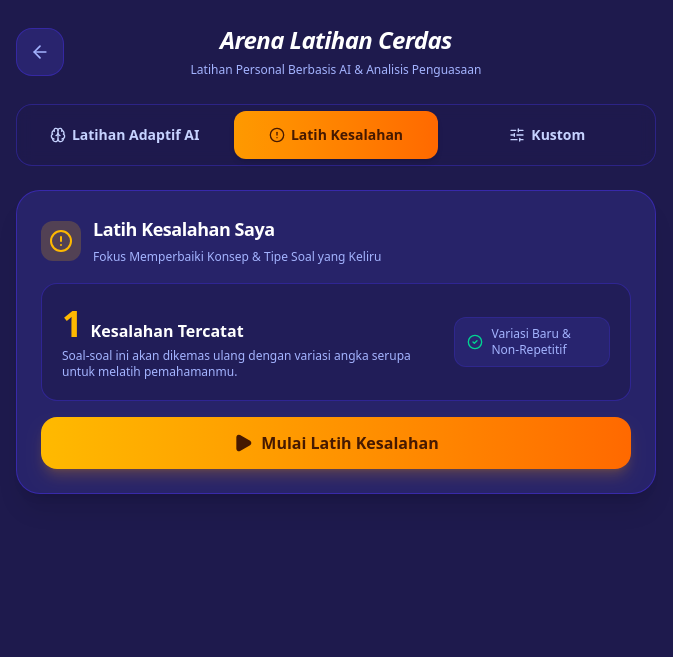
Test: PracticeScreen Orchestrator › plays remediation mode when error history is present
Start remediation
Click the button "Mulai Latih Kesalahan".
click(336, 443)  # box [41, 417, 631, 469]
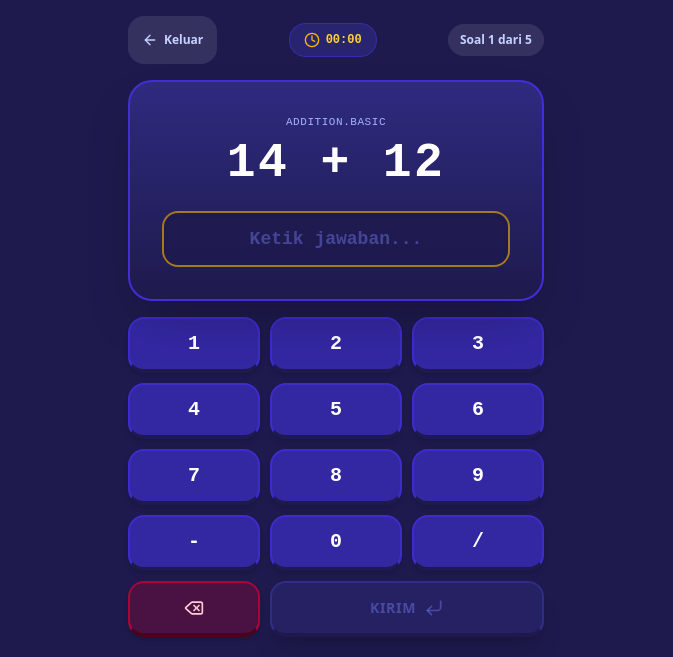
Check: the text "Soal 1 dari 5" is shown, box [448, 24, 544, 56]
